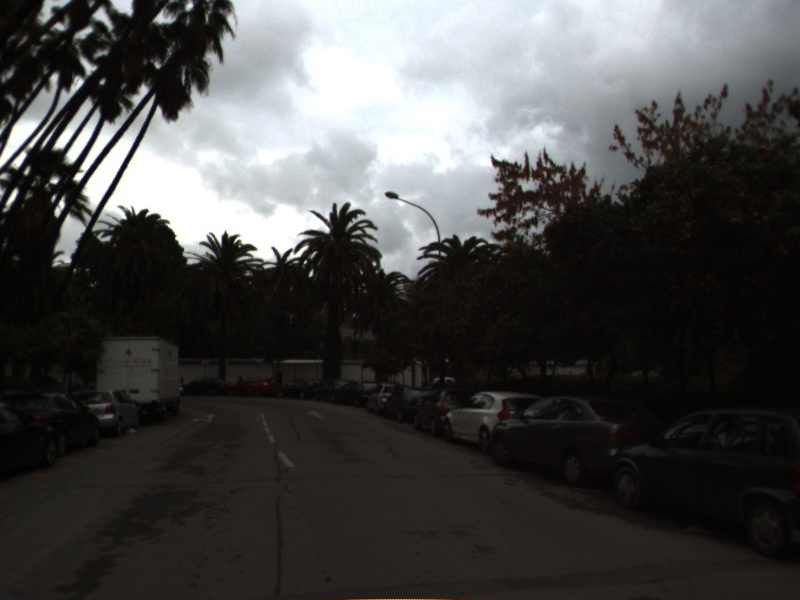STRAIGHT: (305, 408, 327, 421)
STRAIGHT_LEFT: (189, 412, 220, 425)
